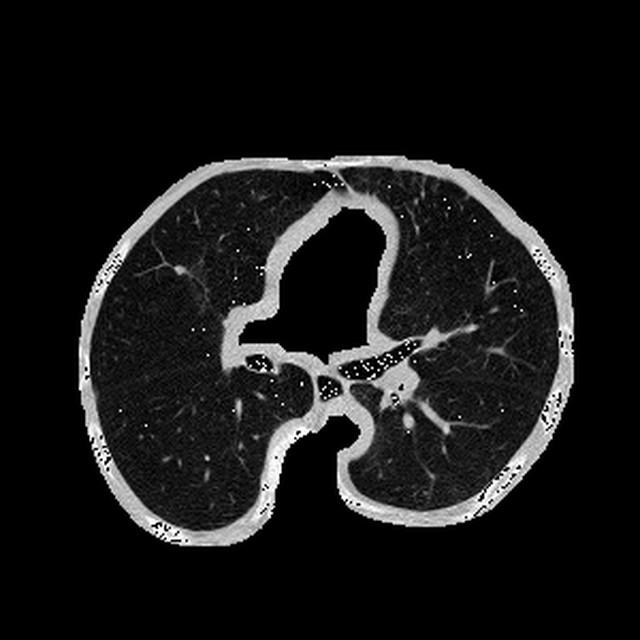PN: (175, 265, 183, 273)
